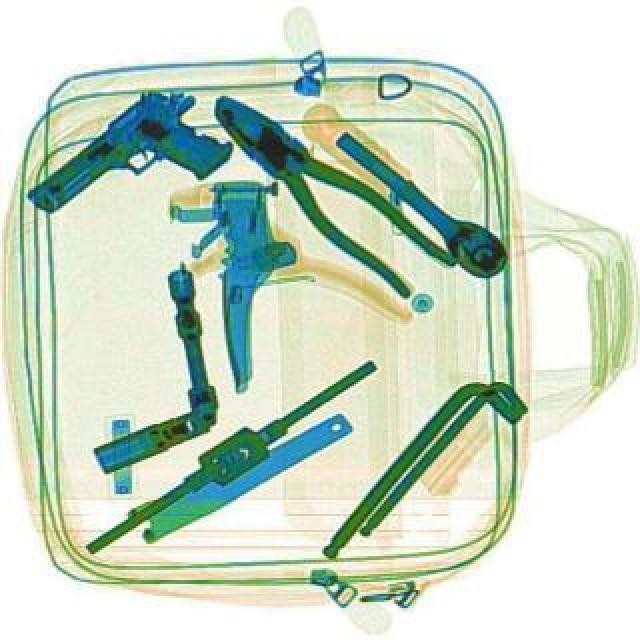gun: (20, 72, 244, 270)
wrench: (188, 70, 458, 310)
